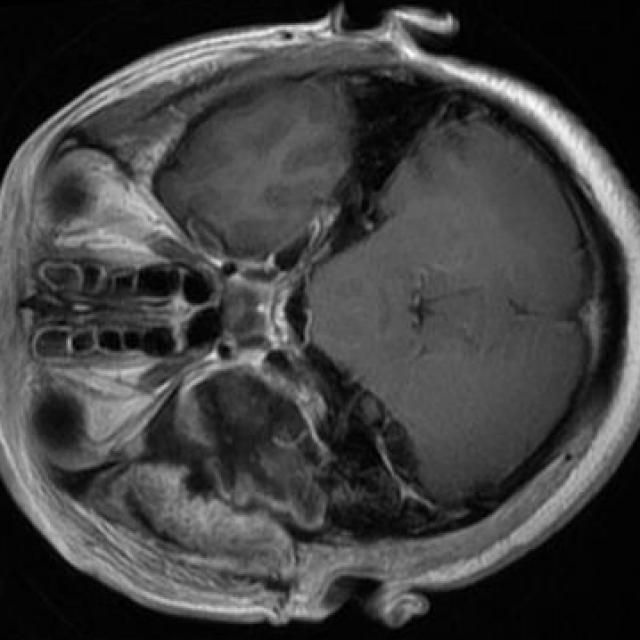glioma: (176, 364, 328, 529)
